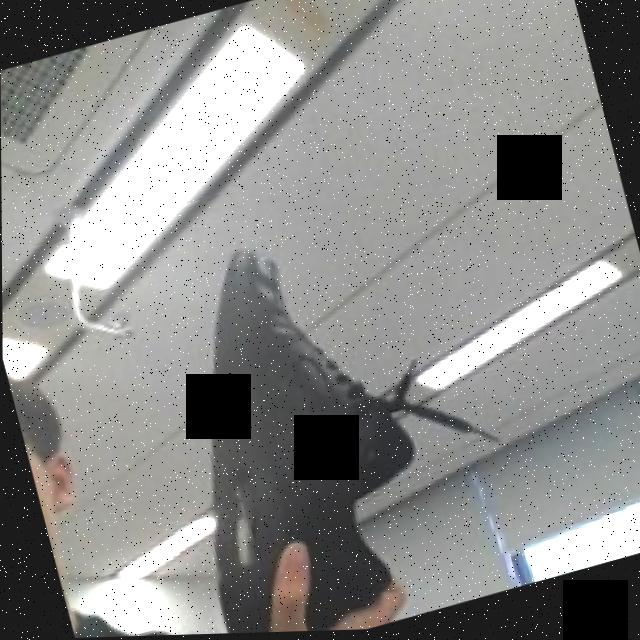shoe: (92, 133, 517, 638)
